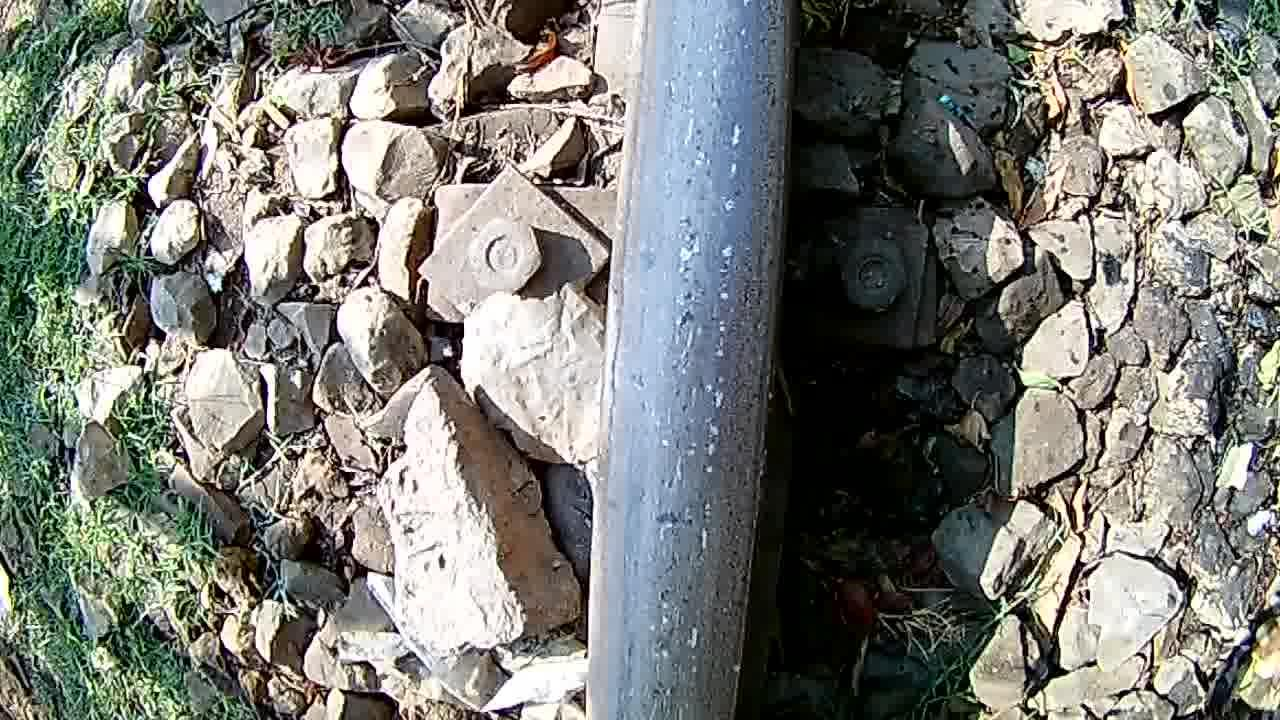clip_missing: (601, 0, 793, 720)
